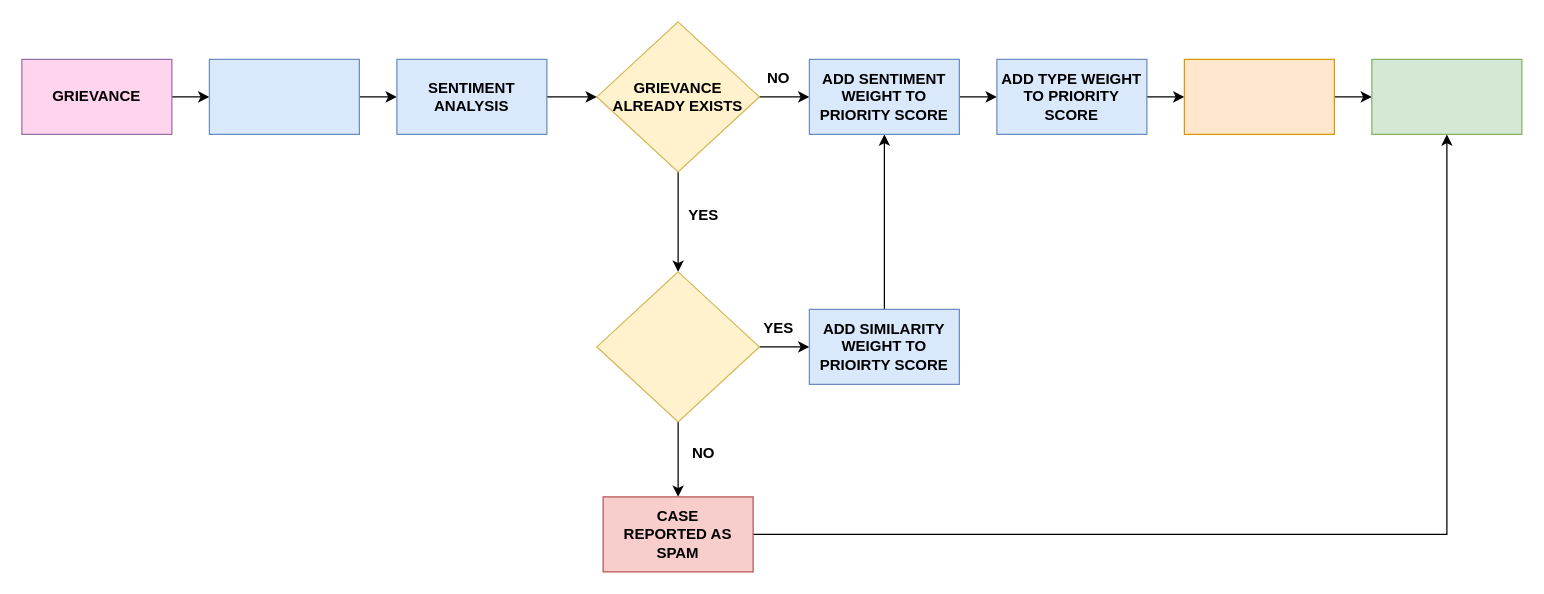
The diagram is 1544 pixels wide and 594 high, and some of its shapes have lost their labels. Each missing label, with the centre of its shape:
INITIALIZING DistilBERT MODEL: the point at 283,96
PRIORITY VALUE AND CATEGORIZATION: the point at 1258,96
REPRESENTATIVE DECISION AND FOLLOW-UP: the point at 1446,96
SIMILARITY COUNT < k: the point at 677,346
